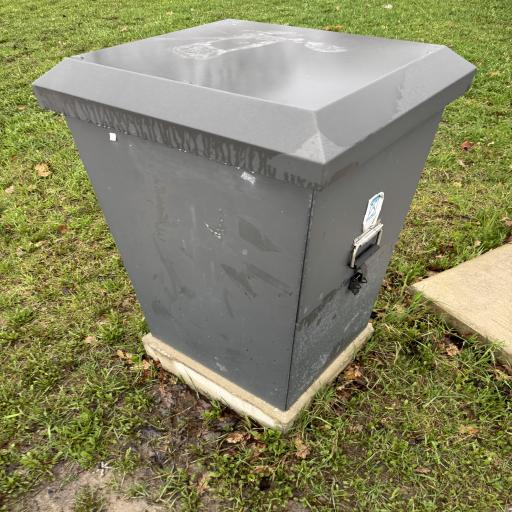Electrical Box: (29, 19, 479, 411)
